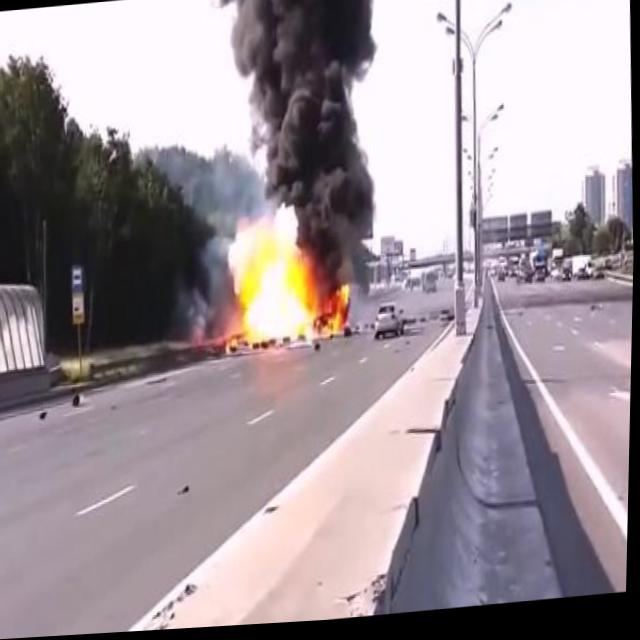fire: (222, 201, 355, 354)
